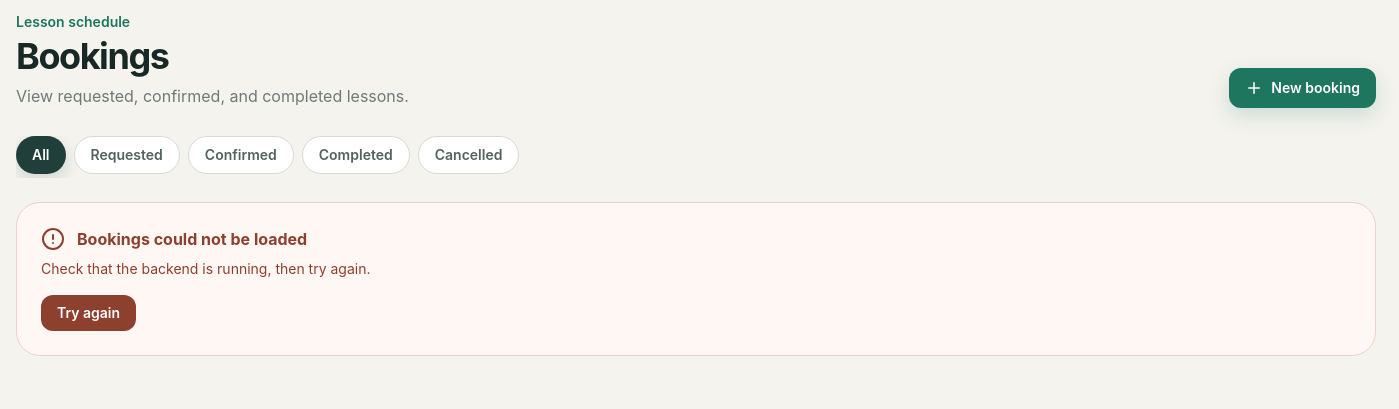
Test case: shows an error and can retry
Expected: the message shows "Bookings could not be loaded", [77,229,307,249]
Click the button "Try again" at (89, 313), box [41,295,136,331]
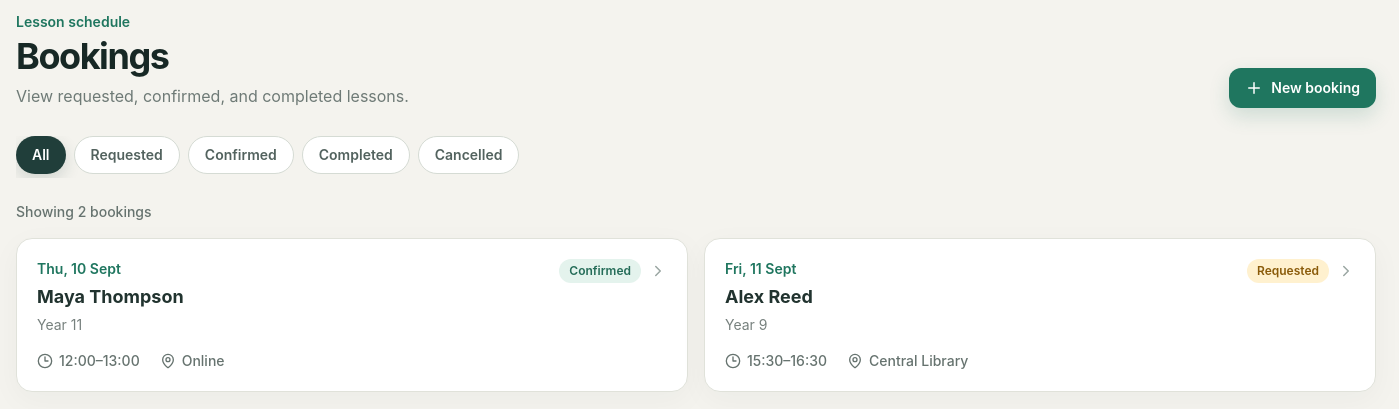
Expected: the heading "Maya Thompson" is shown, [37,283,184,311]
